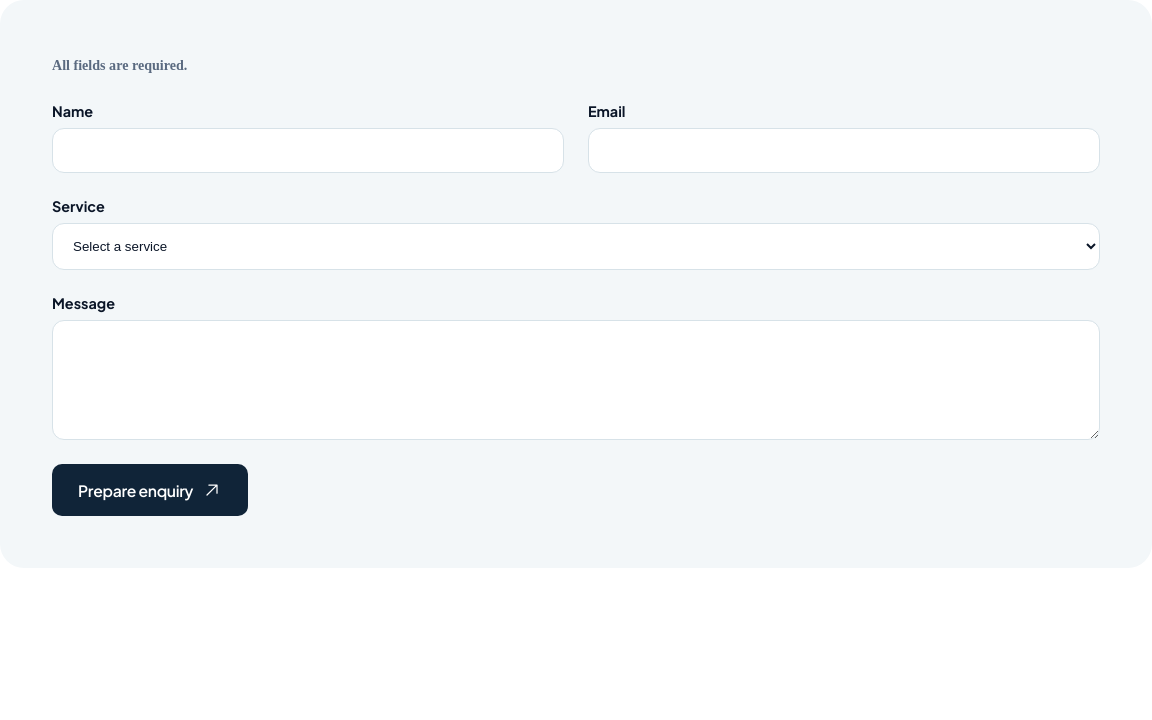
Scenario: ContactForm › clears only the edited field error and aria-invalid state
The width and height of the screenshot is (1152, 720).
Click the button "Prepare enquiry" at (150, 490), box [52, 464, 248, 516]
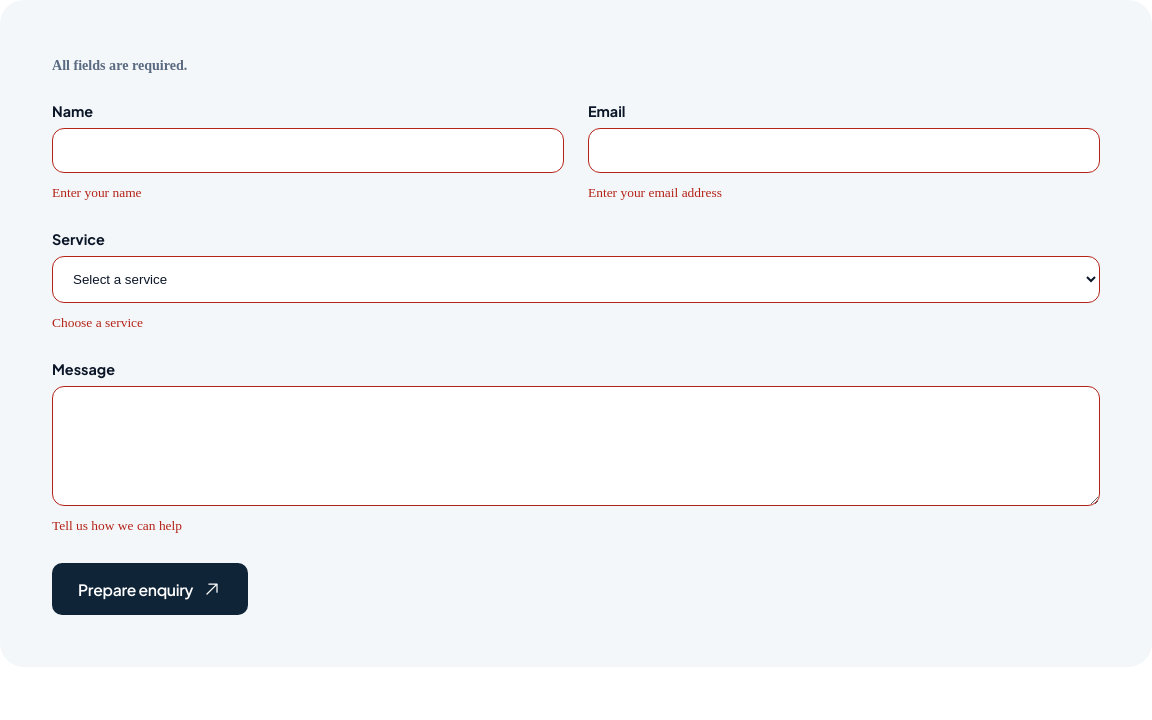
Type "Priya Shah" into the field labelled "Name" at (308, 151), box [52, 128, 564, 173]
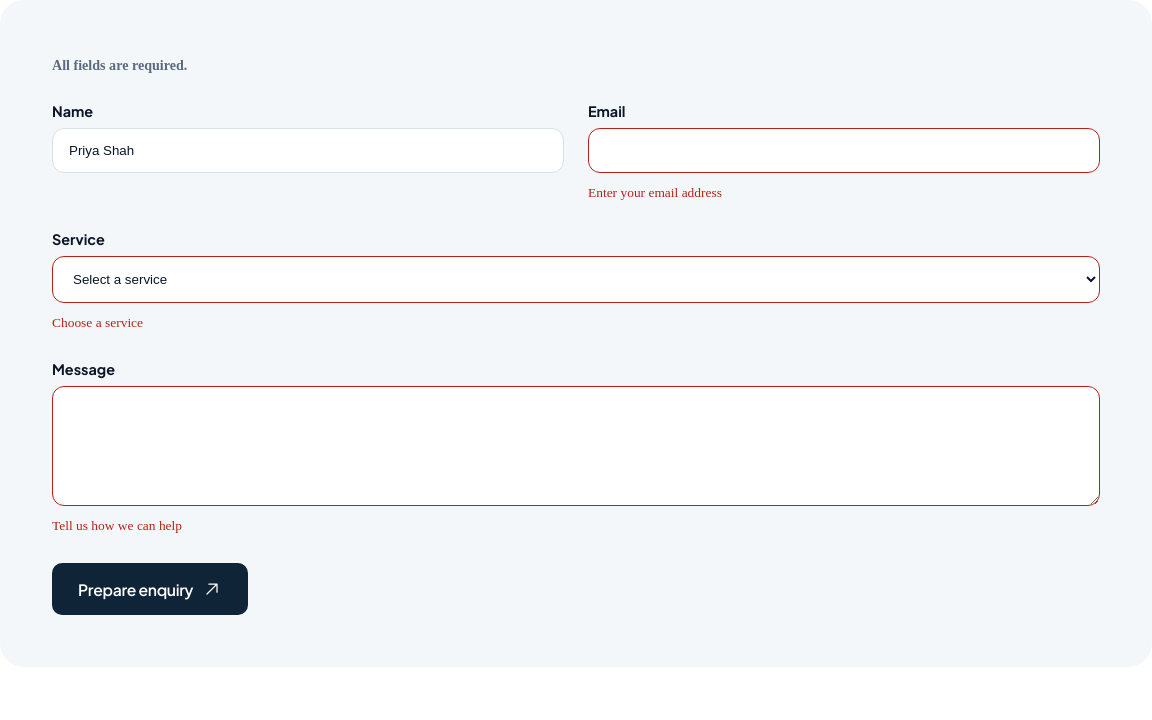
Expected: the text "Enter your email address" is shown, [588, 185, 722, 200]
Expected: the text "Enter your name" is gone
